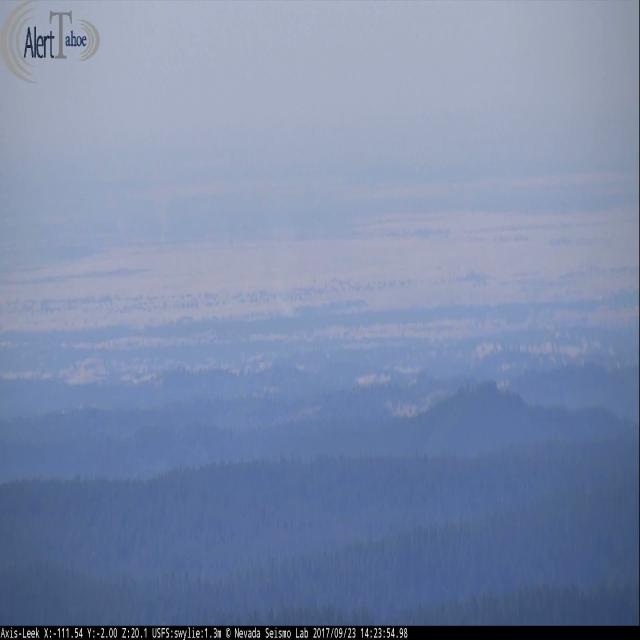smoke: (278, 291, 302, 319)
